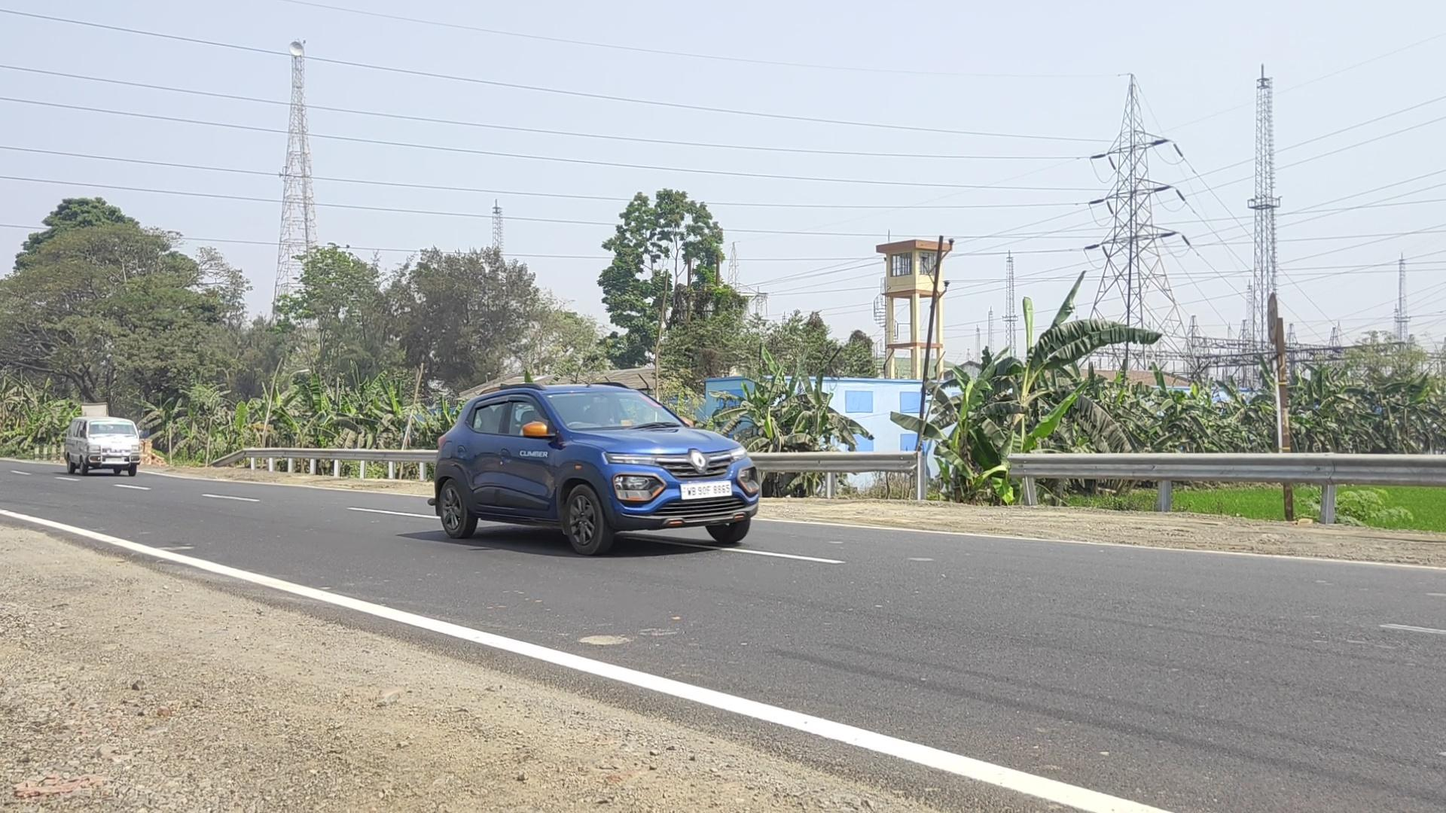car: (428, 381, 760, 556)
van: (63, 415, 142, 476)
